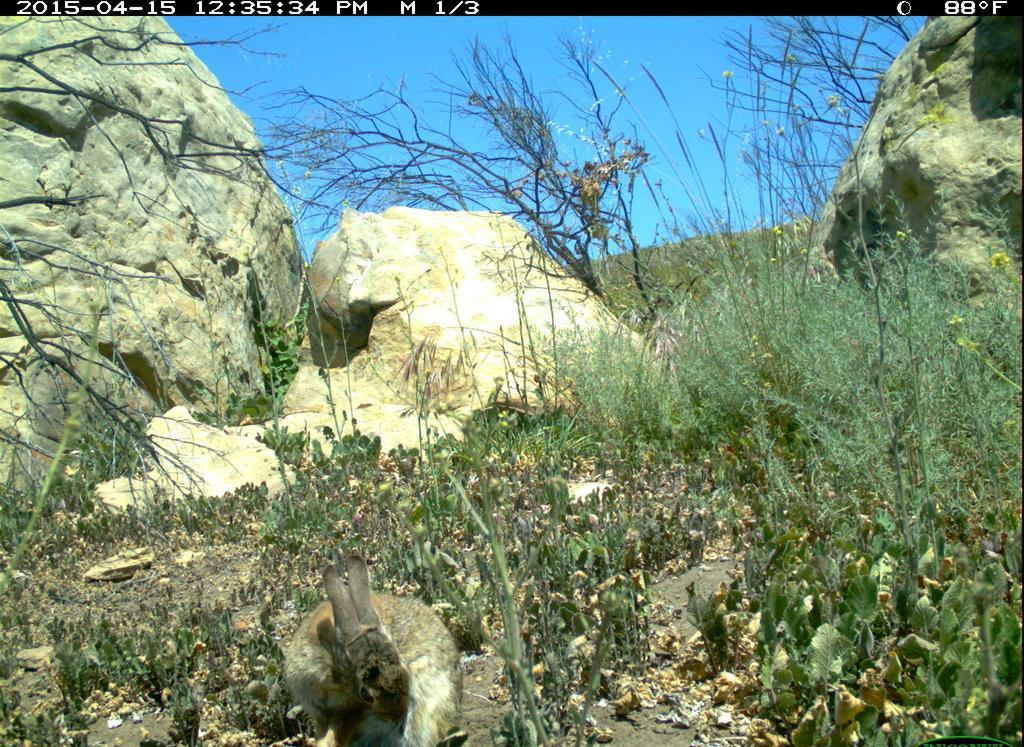rabbit: (280, 562, 477, 747)
